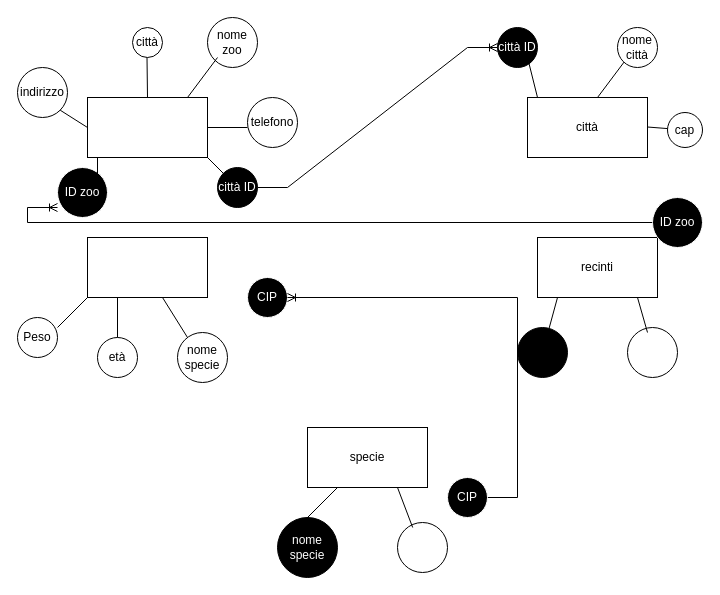
This 720x595 diagram has some shape labels left out. The centre of each missing label's shape, as x and y in pixels:
animali: (x=147, y=267)
habitat: (x=652, y=352)
ID recinto: (x=542, y=352)
quantità: (x=422, y=547)
zoo: (x=147, y=127)
